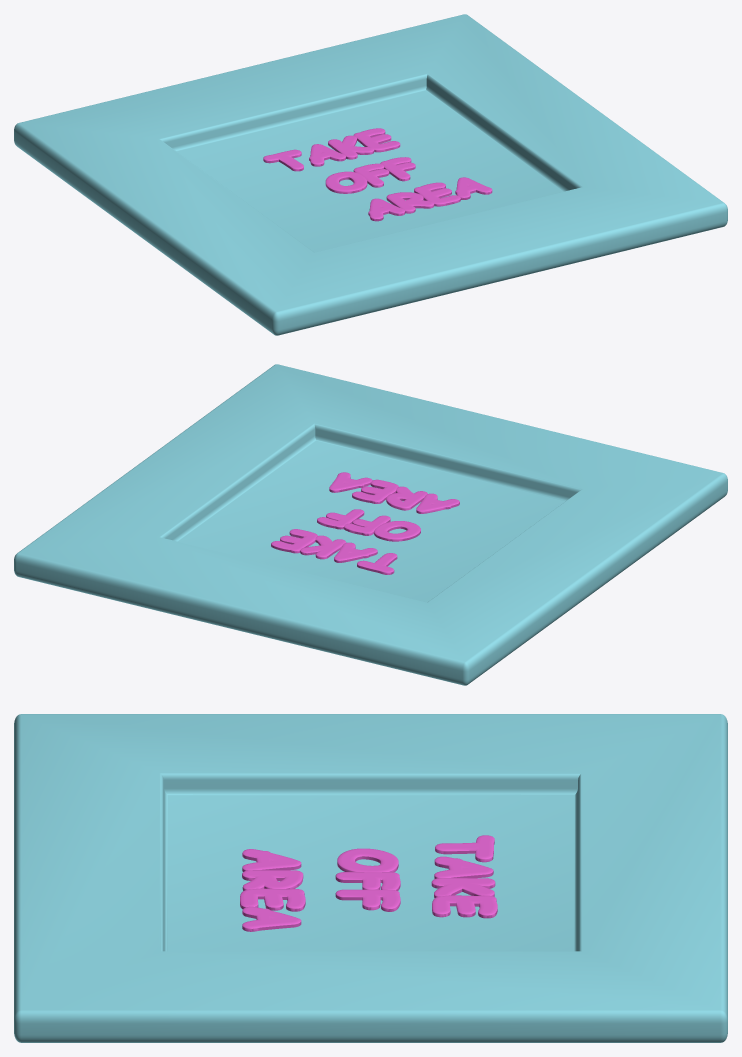
Rendered from Take Off Area.fbx.
3 views of the same model, one above another, from view 1: azimuth 30°, elevation 25°; view 2: azimuth 150°, elevation 25°; view 3: azimuth 270°, elevation 25° (orthographic). The views are drawn at different scales.
Visible parts, largest first — view 1: Take Off Area; view 2: Take Off Area; view 3: Take Off Area.
Boxes of the visible parts, <box> form: Take Off Area: <box>14,14,727,335</box>; Take Off Area: <box>14,364,727,685</box>; Take Off Area: <box>14,714,727,1042</box>.
Size of the model in its own units: 2008 by 101 by 2008.
